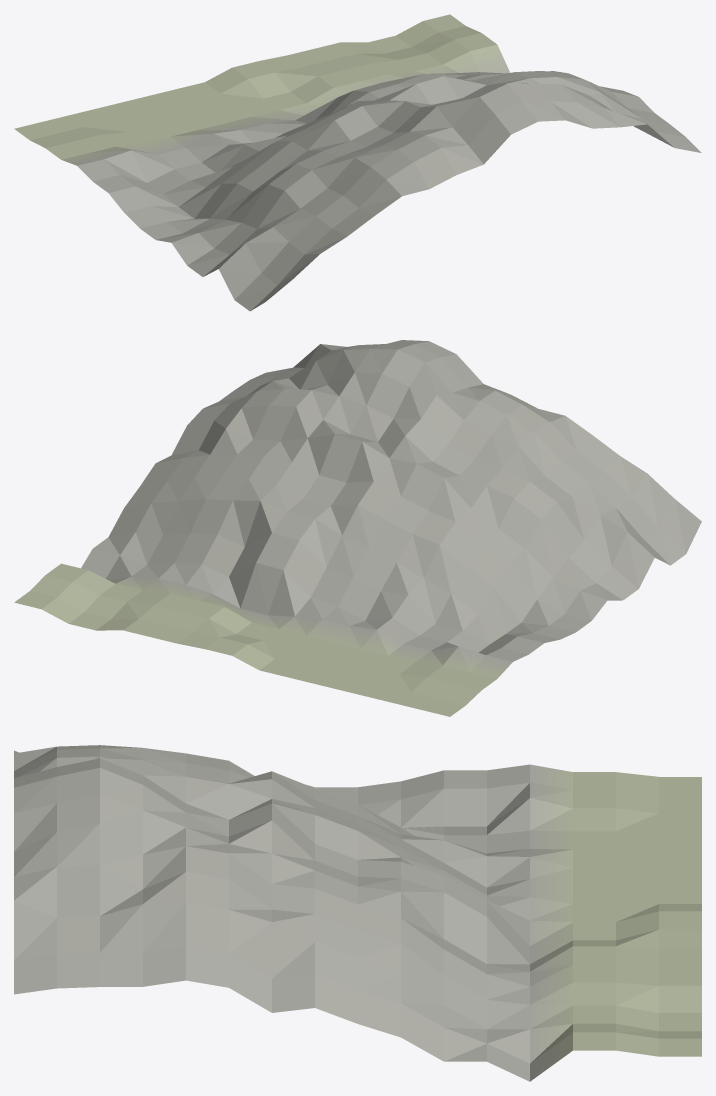
3 renders of one model, top to bottom at view 1: azimuth 30°, elevation 25°; view 2: azimuth 150°, elevation 25°; view 3: azimuth 270°, elevation 25°, orthographic. The views are drawn at different scales.
Size of the model in its own units: 32 by 10.58 by 32.
